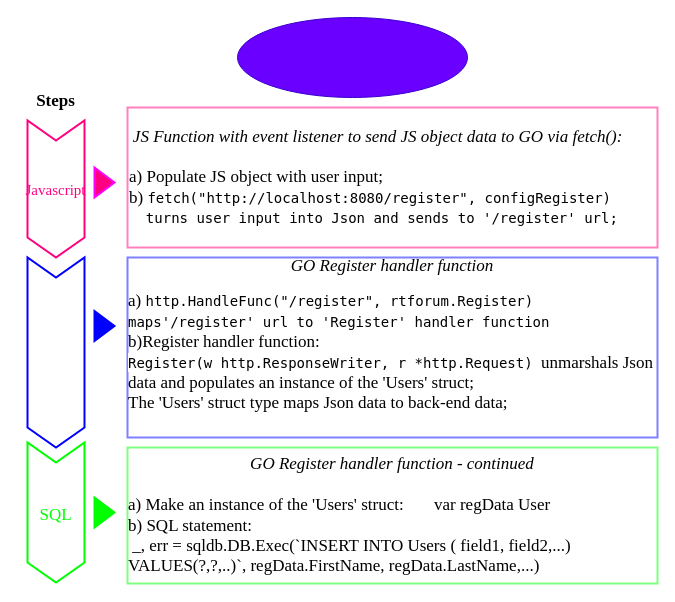
This 675x602 diagram has some shape labels left out. The box of each missing label's shape, as (x1, y1, x2, y2) in pixels:
GO: (26, 256, 85, 448)
Steps to link Javascript front-end to Go back-end: (236, 16, 468, 98)
